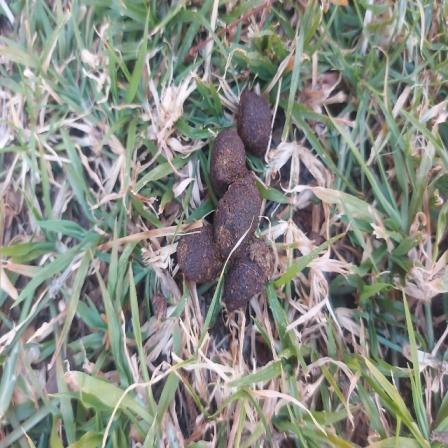dog-poop: (160, 86, 305, 316)
